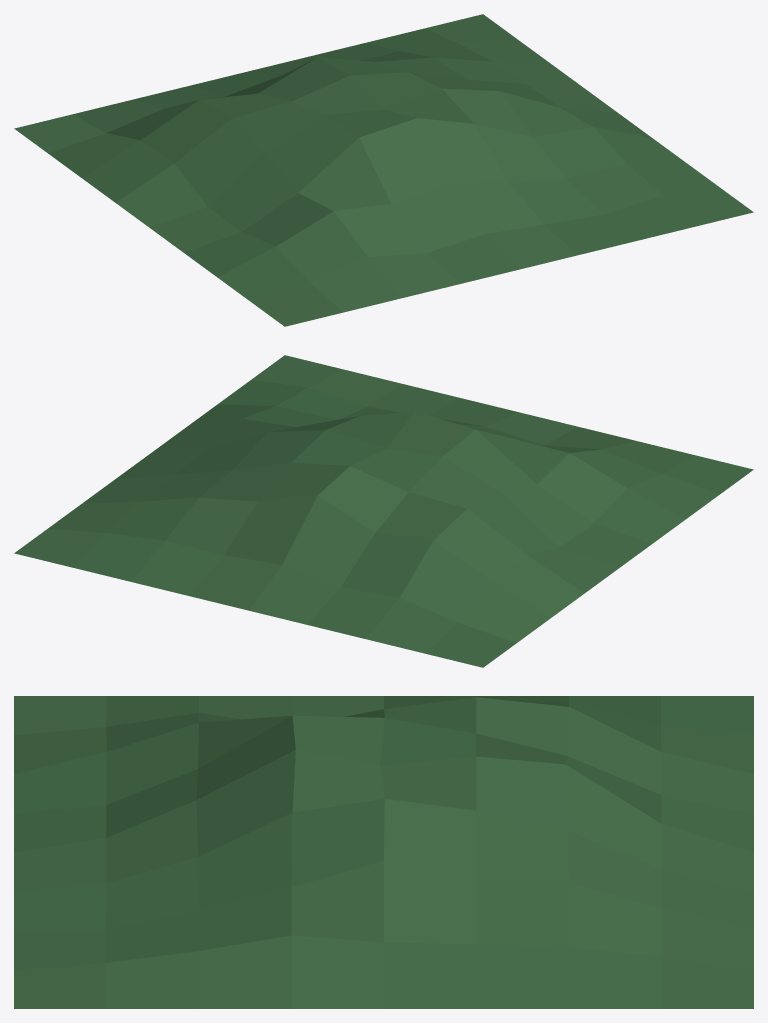
File: Terrain_13_Light_Green.fbx
3 views of the same model, one above another, from view 1: azimuth 30°, elevation 25°; view 2: azimuth 150°, elevation 25°; view 3: azimuth 270°, elevation 25° (orthographic). The views are drawn at different scales.
Parts seen in each view (by area): view 1: Terrain_13_Light_Green; view 2: Terrain_13_Light_Green; view 3: Terrain_13_Light_Green.
Part boxes in pixels (x1,y1,x2,y2): Terrain_13_Light_Green: (14, 14, 753, 326); Terrain_13_Light_Green: (14, 355, 753, 667); Terrain_13_Light_Green: (14, 696, 753, 1008).
Size of the model in its own units: 6000 by 926 by 6000.
